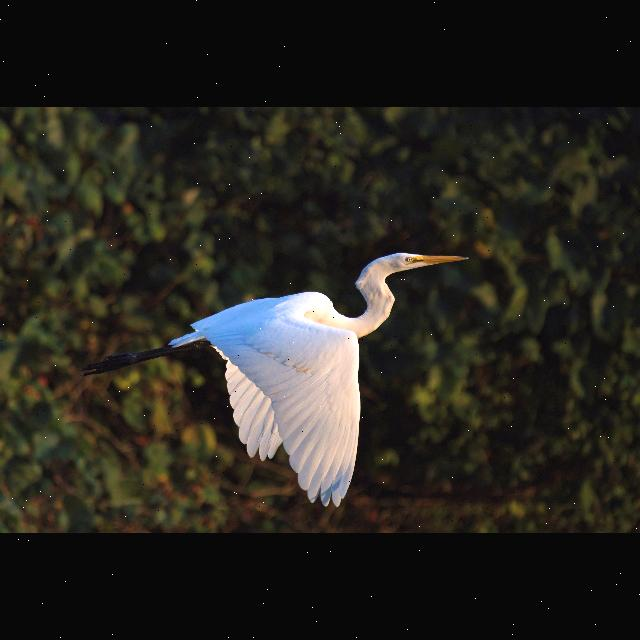egret: (82, 252, 468, 506)
